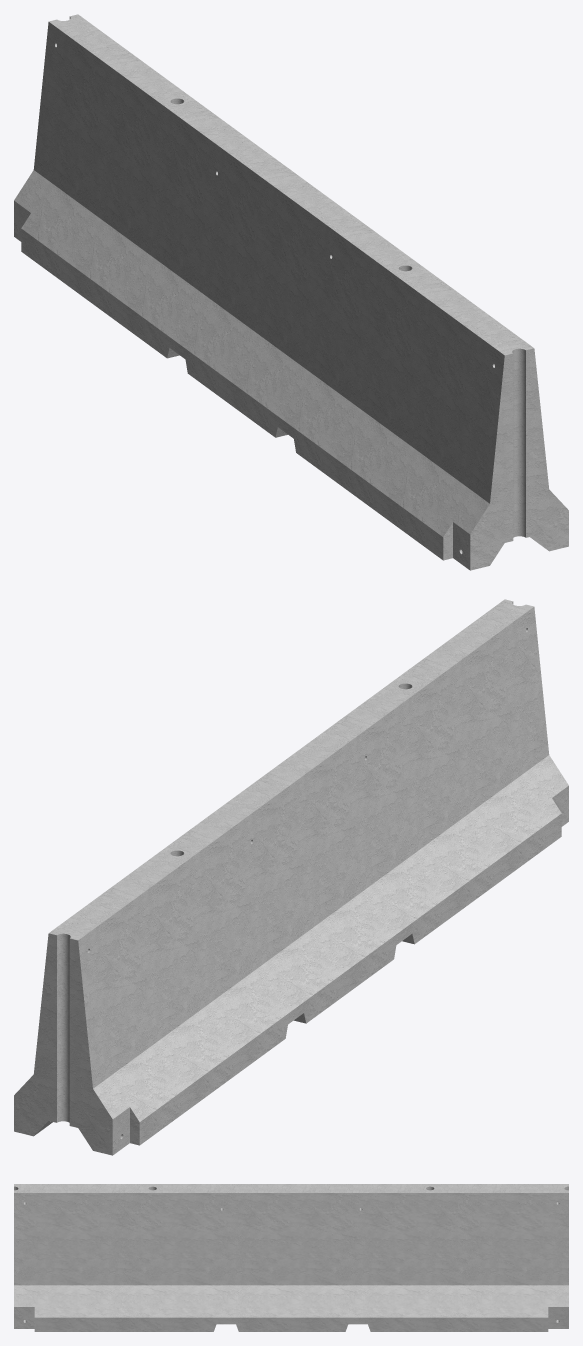
File: k_wall.glb
3 views of the same model, one above another, from view 1: azimuth 30°, elevation 25°; view 2: azimuth 150°, elevation 25°; view 3: azimuth 270°, elevation 25° (orthographic). The views are drawn at different scales.
Visible parts, largest first — view 1: skp; view 2: skp; view 3: skp.
Boxes of the visible parts, left/top/right/bottom form: skp: left=14, top=14, right=568, bottom=570; skp: left=14, top=599, right=568, bottom=1155; skp: left=14, top=1184, right=568, bottom=1331.
Size of the model in its own units: 0.6 by 1 by 4.
1 material, 1 textured.
